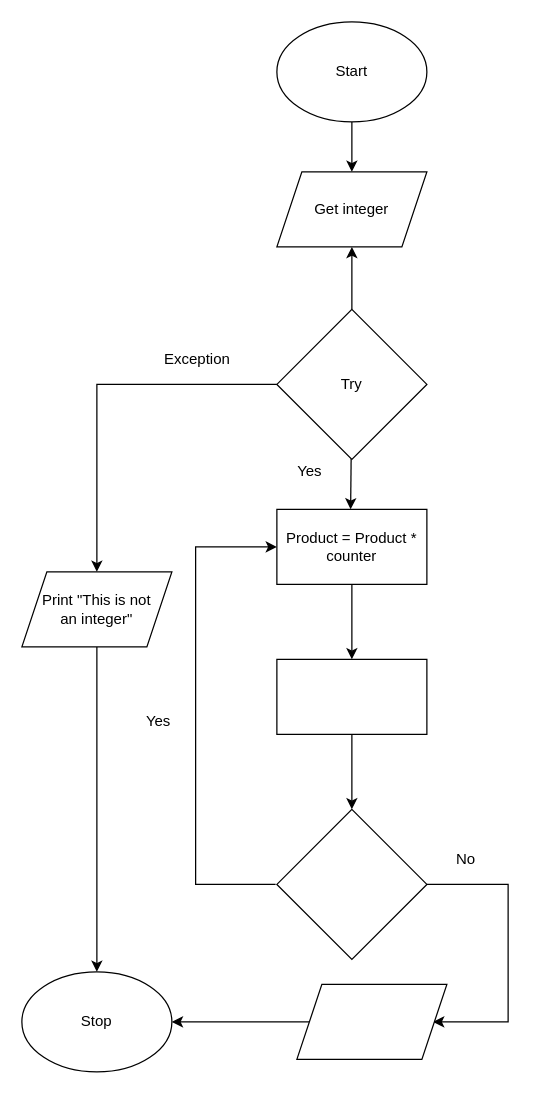
The diagram is 540 pixels wide and 1094 high, and some of its shapes have lost their labels. The centre of each missing label's shape, as x and y in pixels:
Counter = counter + 1: pixel 351 696
Print "The answer is the sum": pixel 371 1021
While counter <= integer: pixel 351 883
